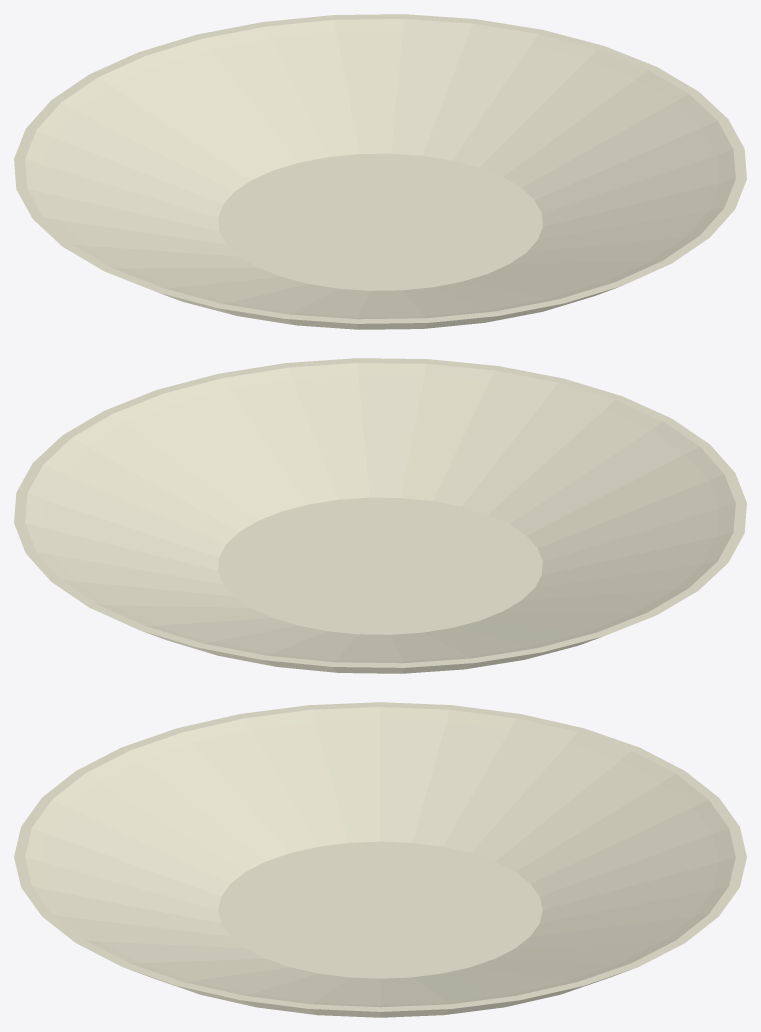
The model's file is Plate_Simple.glb.
The picture shows the model from 3 angles, top to bottom: view 1: azimuth 30°, elevation 25°; view 2: azimuth 150°, elevation 25°; view 3: azimuth 270°, elevation 25°; orthographic projection.
Parts seen in each view (by area): view 1: plate_simple.001; view 2: plate_simple.001; view 3: plate_simple.001.
Part boxes in pixels (bbox=[...]): plate_simple.001: bbox=[14, 14, 746, 329]; plate_simple.001: bbox=[14, 358, 746, 673]; plate_simple.001: bbox=[14, 702, 746, 1017].
Bounding box in the file's own units: 0.6299 × 0.0731 × 0.6299.
